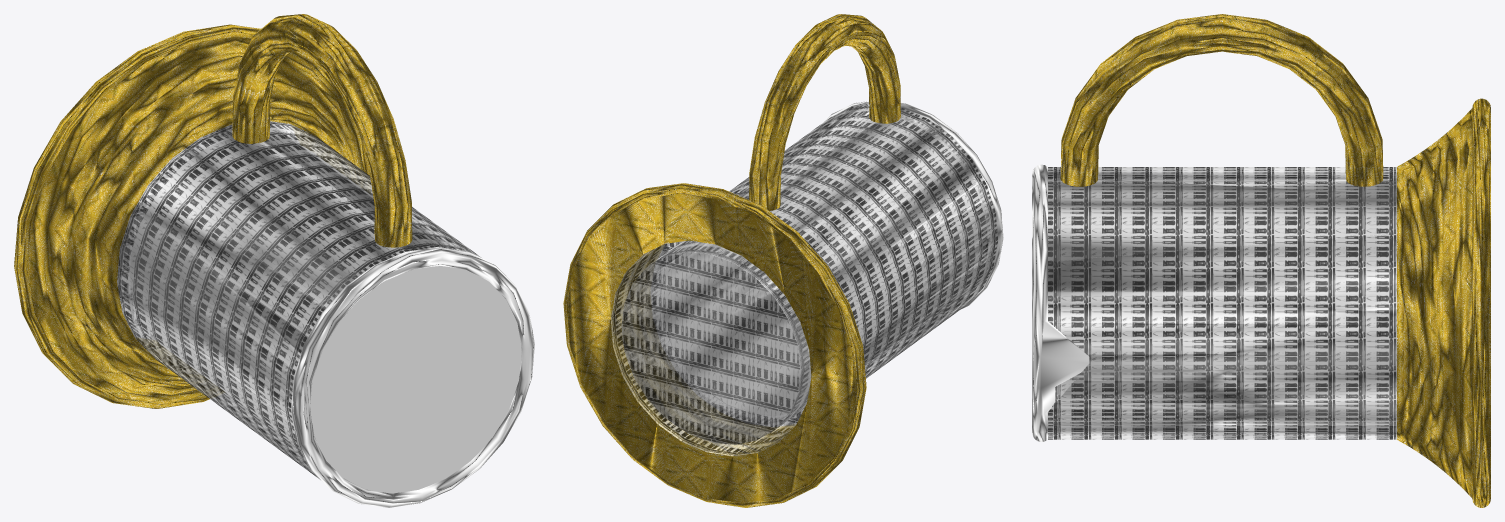
Rendered from model_align.obj.
The picture shows the model from 3 angles, left to right: view 1: azimuth 30°, elevation 25°; view 2: azimuth 150°, elevation 25°; view 3: azimuth 270°, elevation 25°; orthographic projection. The views are drawn at different scales.
Size of the model in its own units: 0.0862 by 0.1094 by 0.0959.
